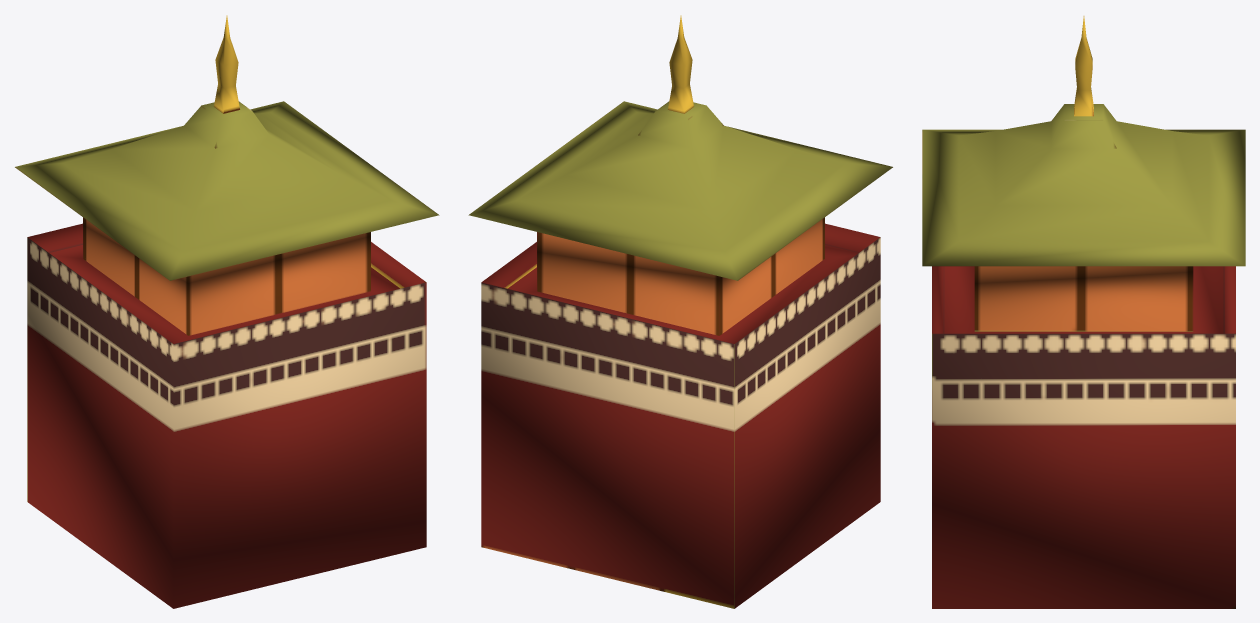
The model's file is shintotempleTower(part).fbx.
3 renders of one model, left to right at view 1: azimuth 30°, elevation 25°; view 2: azimuth 150°, elevation 25°; view 3: azimuth 270°, elevation 25°, orthographic. The views are drawn at different scales.
Visible parts, largest first — view 1: Cube; view 2: Cube; view 3: Cube.
Boxes of the visible parts, x1=… form: Cube: x1=15, y1=15, x2=439, y2=608; Cube: x1=468, y1=15, x2=892, y2=608; Cube: x1=922, y1=16, x2=1245, y2=608.
Size of the model in its own units: 2.13 by 3.86 by 2.13.
